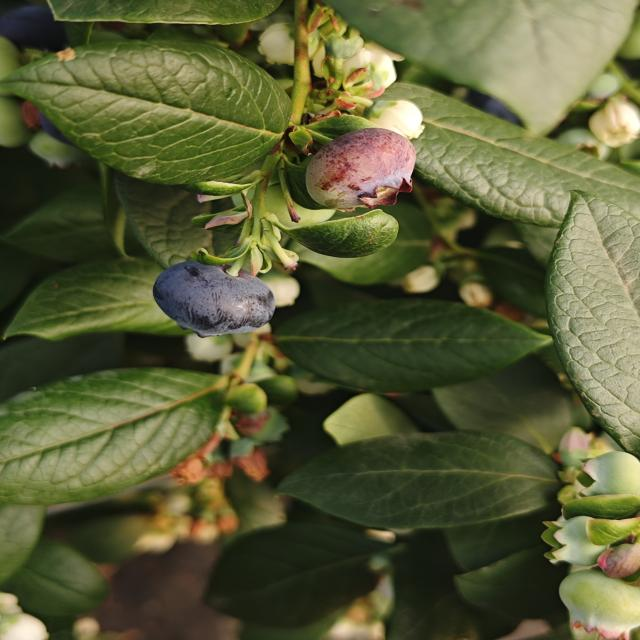ripe: (141, 256, 292, 336), (32, 99, 102, 162), (0, 0, 73, 58)
